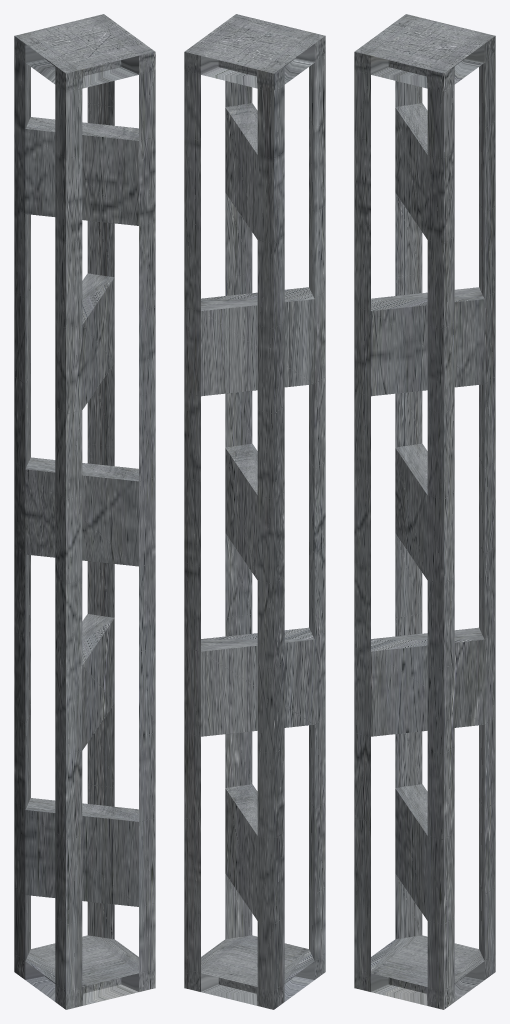
File: steelBeam.fbx
The picture shows the model from 3 angles, left to right: view 1: azimuth 30°, elevation 25°; view 2: azimuth 150°, elevation 25°; view 3: azimuth 330°, elevation 25°; orthographic projection.
Visible parts, largest first — view 1: pCube2; view 2: pCube2; view 3: pCube2.
Boxes of the visible parts, x1,y1,x2,y2 form: pCube2: [14, 14, 155, 1009]; pCube2: [184, 14, 325, 1009]; pCube2: [354, 14, 495, 1009].
Size of the model in its own units: 0.5 by 5 by 0.5.
